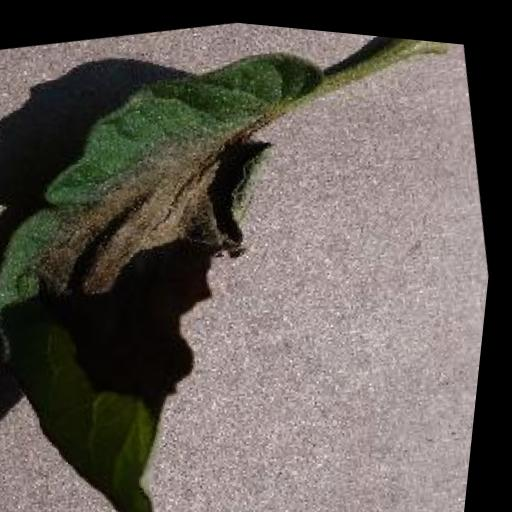Late Blight: (0, 13, 424, 512)
